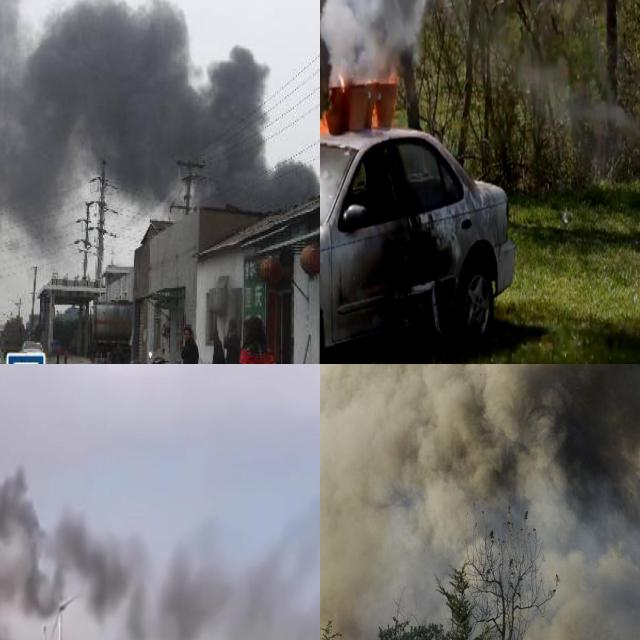fire: (320, 60, 398, 141)
smoke: (320, 364, 640, 640), (0, 0, 320, 257), (0, 458, 320, 640)
